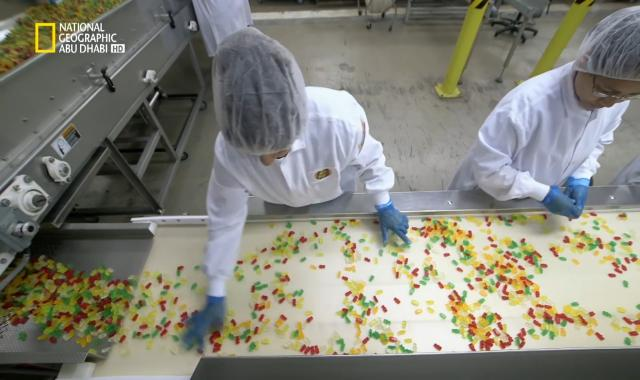hairnet: (214, 35, 306, 162), (574, 7, 640, 82)
